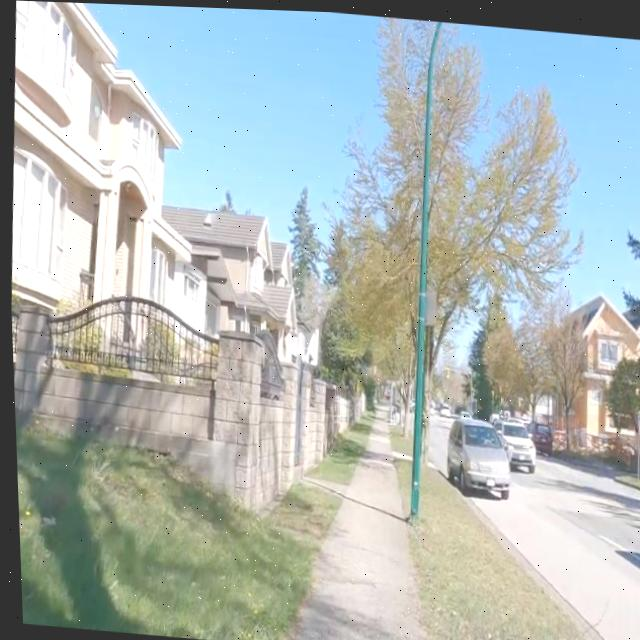Automobile: (444, 413, 506, 495), (492, 415, 533, 468)
Road: (466, 454, 640, 640)
Sidewalk: (283, 417, 423, 640)
